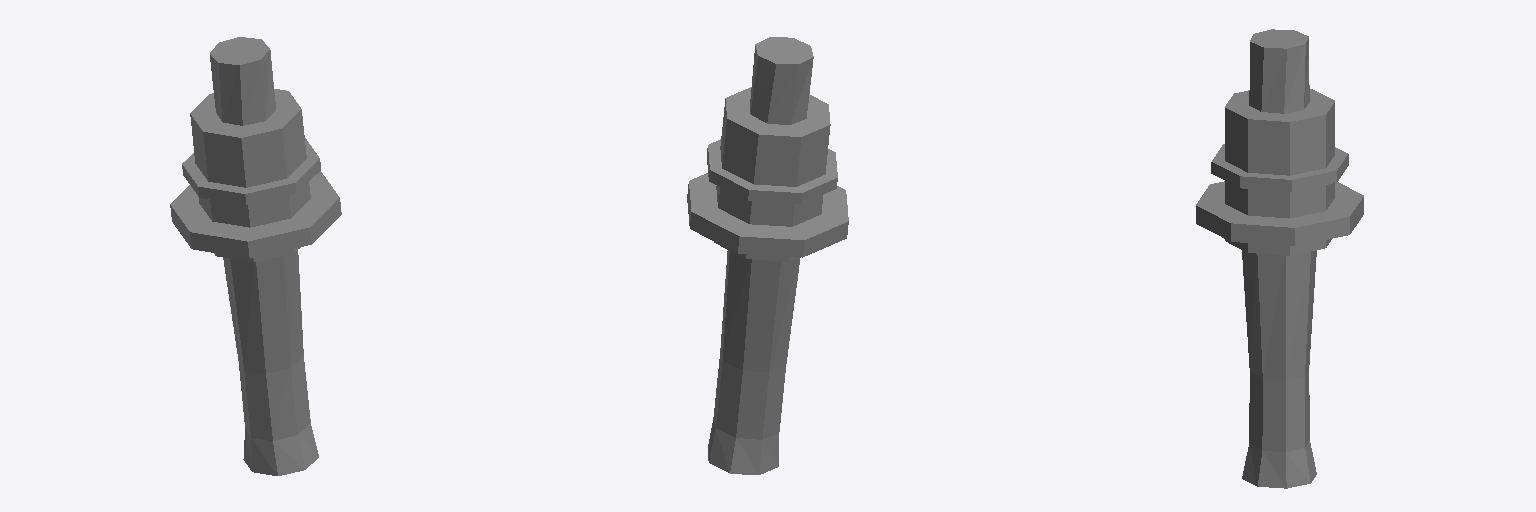
The model's file is Auricular_3.obj.
The picture shows the model from 3 angles: view 1: azimuth 30°, elevation 25°; view 2: azimuth 150°, elevation 25°; view 3: azimuth 270°, elevation 25°; orthographic projection.
Parts seen in each view (by area): view 1: Auricular3; view 2: Auricular3; view 3: Auricular3.
Boxes of the visible parts, x1,y1,x2,y2 form: Auricular3: [170, 37, 341, 475]; Auricular3: [687, 37, 848, 474]; Auricular3: [1196, 29, 1363, 488].
Size of the model in its own units: 6.62 by 18.24 by 6.58.